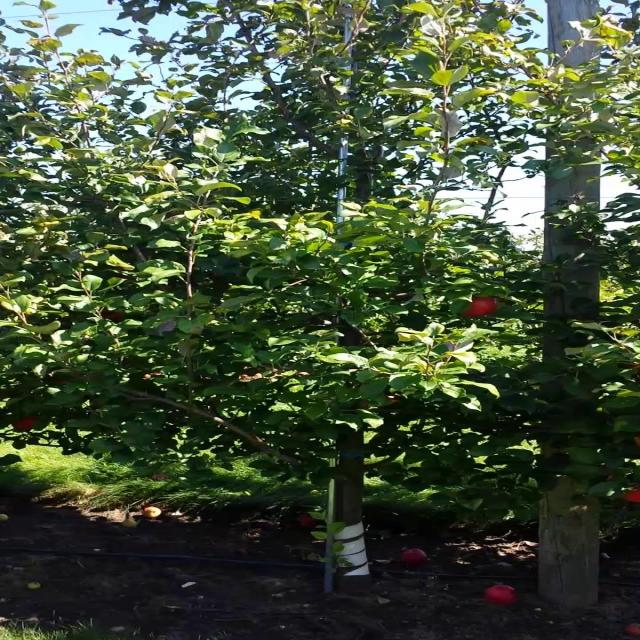apple: (461, 296, 498, 317), (13, 416, 39, 432), (99, 312, 126, 321), (625, 488, 639, 504)
